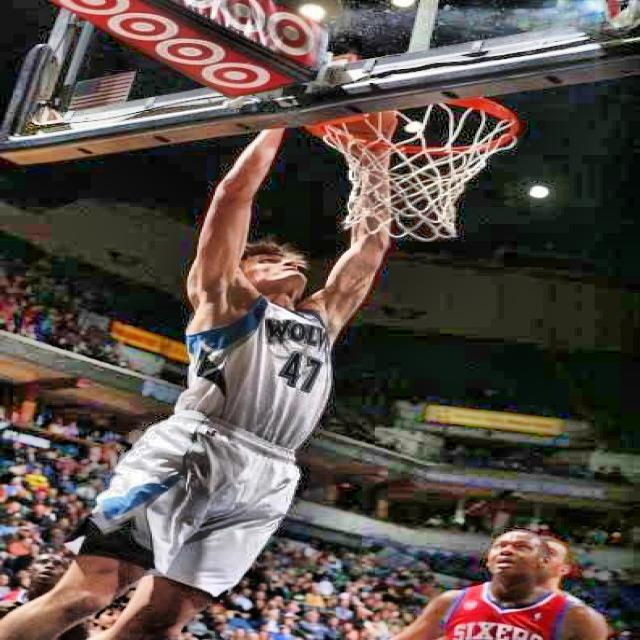board: (318, 93, 520, 240)
